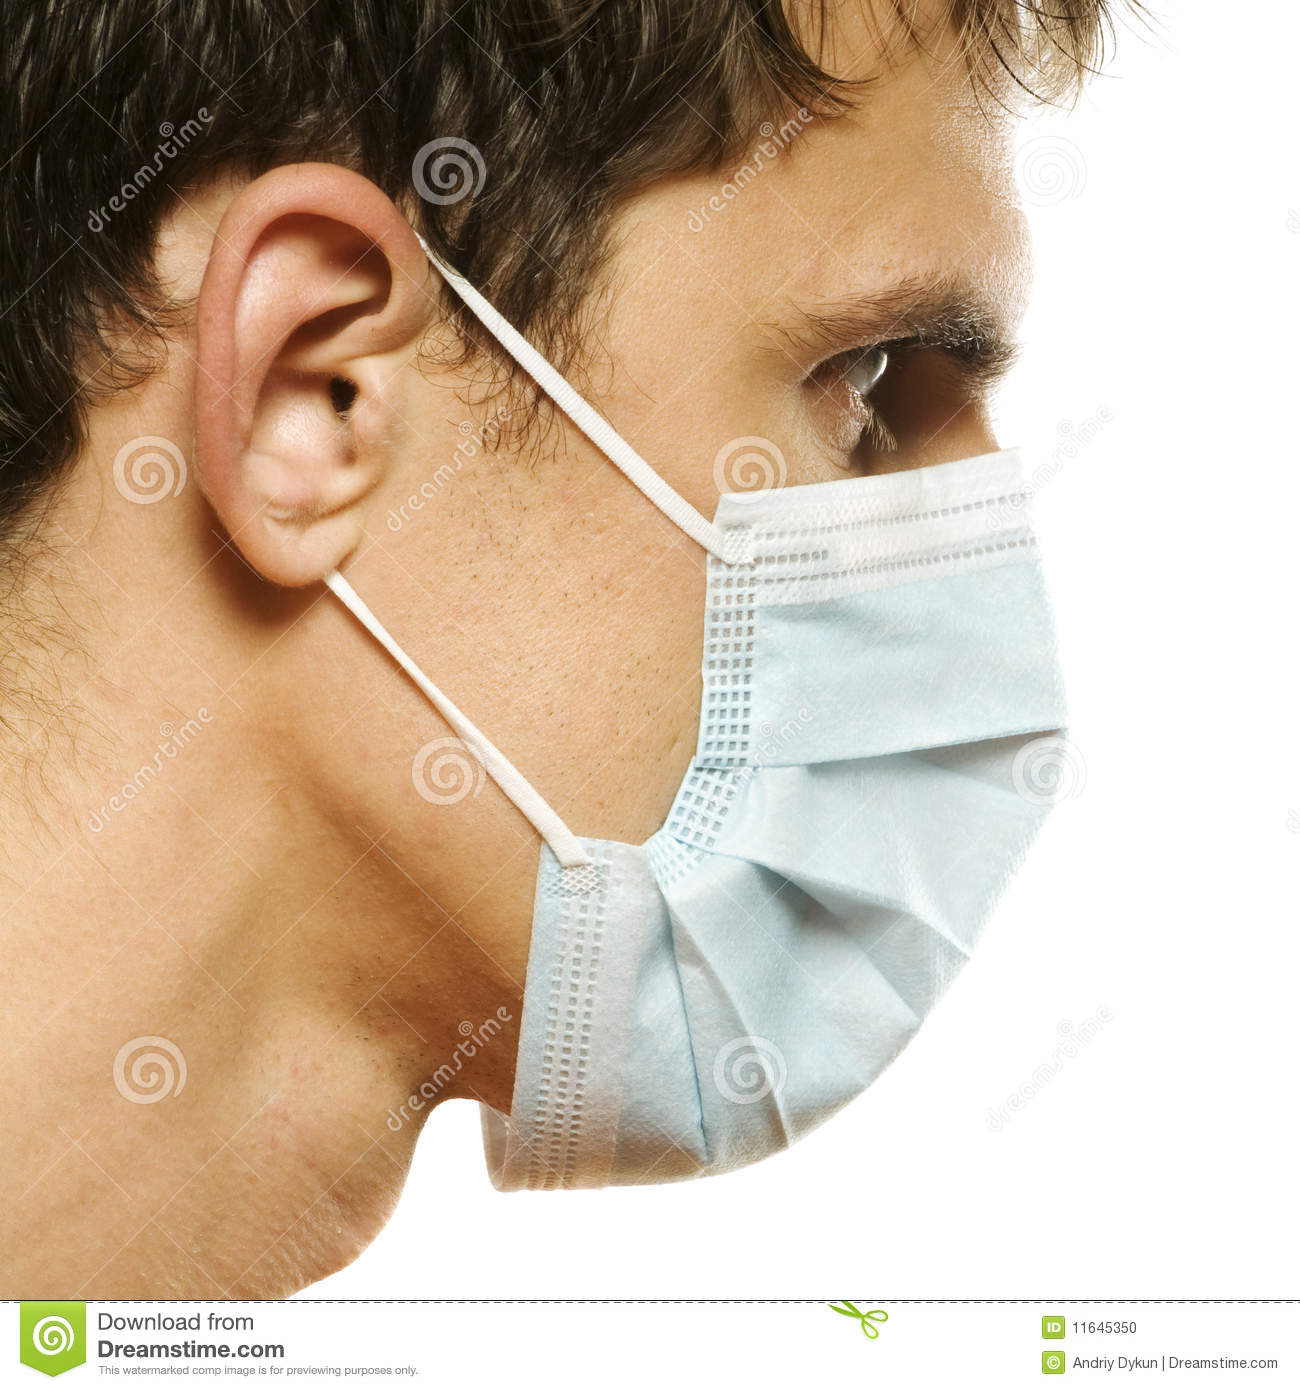mask: (502, 474, 1061, 1202)
